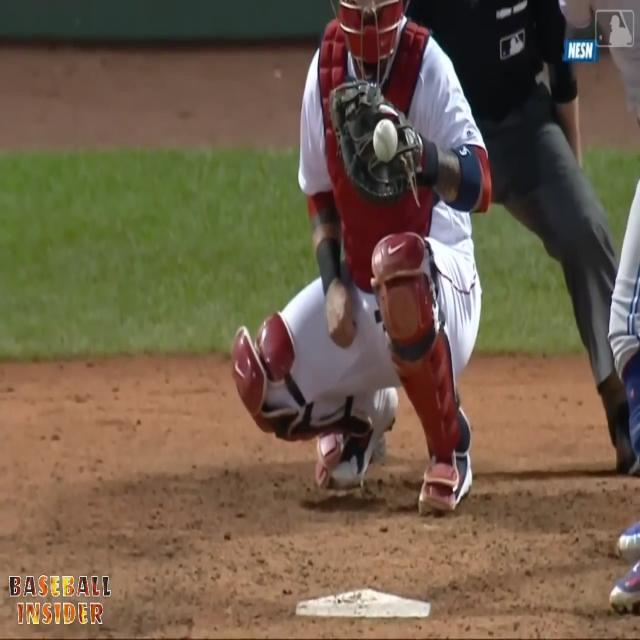baseball: (374, 117, 397, 162)
